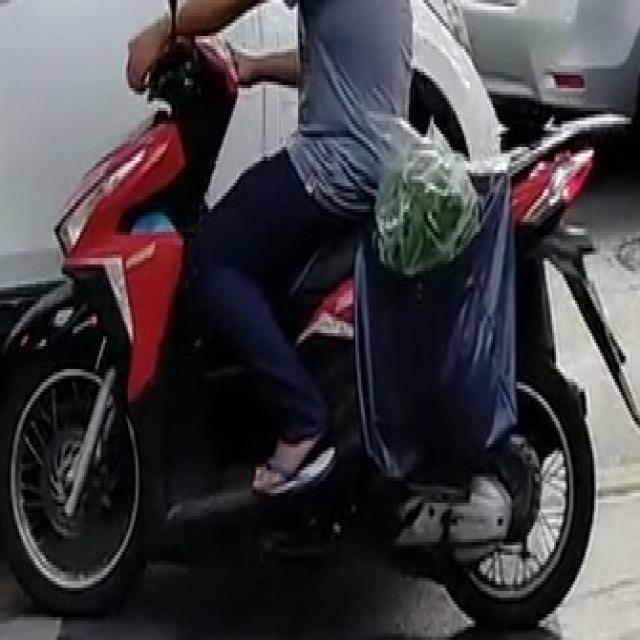door: (0, 0, 638, 624)
tyre: (447, 356, 596, 627)
